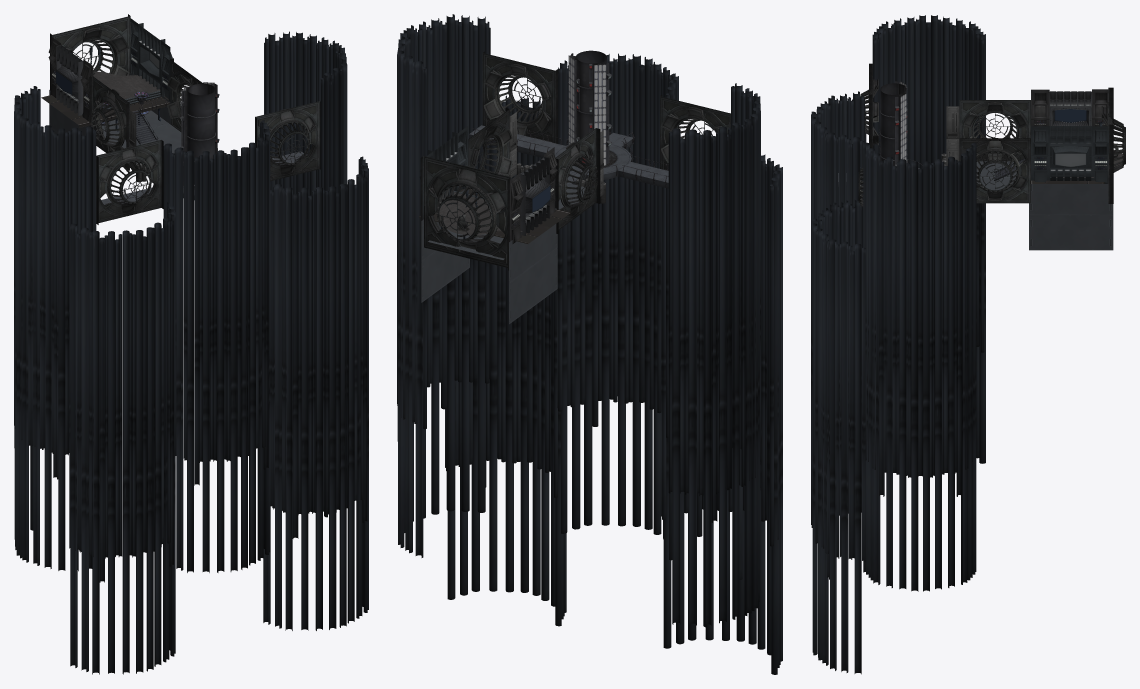
File: env_empire_throneroom_02_pre.glb
3 views of the same model, side by side, from view 1: azimuth 30°, elevation 25°; view 2: azimuth 150°, elevation 25°; view 3: azimuth 270°, elevation 25° (orthographic). The views are drawn at different scales.
Visible parts, largest first — view 1: emp_throne_wall_01_mesh (1), emp_throne_wall_01_mesh (2), emp_throne_wall_01_mesh, emp_throne_wall_01_mesh (3), emp_throne_wall_01_mesh (4), emp_throne_window_01_mesh (2), emp_throne_window_01_mesh (1), emp_throne_elevator_02_mesh, emp_throne_window_01_mesh, emp_throne_window_01_mesh (4), emp_throne_screen_01b_mesh, emp_throne_screen_mesh (1) (+7 smaller); view 2: emp_throne_wall_01_mesh (3), emp_throne_wall_01_mesh, emp_throne_wall_01_mesh (4), emp_throne_wall_01_mesh (2), emp_throne_wall_01_mesh (1), emp_throne_window_01_mesh, emp_throne_window_01_mesh (1), emp_throne_elevator_02_mesh, ground_plane_mesh (3), emp_throne_window_01_mesh (4), emp_throne_floor_01_mesh, emp_throne_window_01_mesh (2) (+7 smaller); view 3: emp_throne_wall_01_mesh (4), emp_throne_wall_01_mesh (2), emp_throne_wall_01_mesh (3), emp_throne_wall_01_mesh, ground_plane_mesh (2), emp_throne_window_01_mesh (3), emp_throne_window_01_mesh (4), emp_throne_screen_mesh (1), emp_throne_elevator_02_mesh, emp_throne_screen_01b_mesh, emp_throne_window_01_mesh, emp_wall_05_mesh (2) (+5 smaller).
Boxes of the visible parts, x1=… form: emp_throne_wall_01_mesh (1): x1=69, y1=202, x2=175, y2=674; emp_throne_wall_01_mesh (2): x1=263, y1=156, x2=368, y2=630; emp_throne_wall_01_mesh: x1=163, y1=120, x2=270, y2=572; emp_throne_wall_01_mesh (3): x1=14, y1=86, x2=96, y2=571; emp_throne_wall_01_mesh (4): x1=264, y1=31, x2=347, y2=517; emp_throne_window_01_mesh (2): x1=96, y1=140, x2=163, y2=224; emp_throne_window_01_mesh (1): x1=255, y1=101, x2=320, y2=181; emp_throne_elevator_02_mesh: x1=180, y1=82, x2=219, y2=185; emp_throne_window_01_mesh: x1=50, y1=14, x2=130, y2=90; emp_throne_window_01_mesh (4): x1=89, y1=76, x2=129, y2=170; emp_throne_screen_01b_mesh: x1=56, y1=45, x2=83, y2=115; emp_throne_screen_mesh (1): x1=138, y1=23, x2=165, y2=92; emp_throne_wall_01_mesh (3): x1=668, y1=83, x2=760, y2=627; emp_throne_wall_01_mesh: x1=557, y1=53, x2=678, y2=560; emp_throne_wall_01_mesh (4): x1=397, y1=14, x2=490, y2=557; emp_throne_wall_01_mesh (2): x1=445, y1=95, x2=566, y2=626; emp_throne_wall_01_mesh (1): x1=661, y1=154, x2=782, y2=674; emp_throne_window_01_mesh: x1=420, y1=156, x2=510, y2=270; emp_throne_window_01_mesh (1): x1=482, y1=51, x2=557, y2=143; emp_throne_elevator_02_mesh: x1=567, y1=50, x2=611, y2=165; ground_plane_mesh (3): x1=509, y1=208, x2=557, y2=324; emp_throne_window_01_mesh (4): x1=554, y1=128, x2=600, y2=234; emp_throne_floor_01_mesh: x1=469, y1=120, x2=668, y2=188; emp_throne_window_01_mesh (2): x1=660, y1=95, x2=730, y2=170; emp_throne_wall_01_mesh (4): x1=863, y1=142, x2=976, y2=591; emp_throne_wall_01_mesh (2): x1=812, y1=200, x2=865, y2=674; emp_throne_wall_01_mesh (3): x1=872, y1=15, x2=985, y2=463; emp_throne_wall_01_mesh: x1=811, y1=91, x2=864, y2=527; ground_plane_mesh (2): x1=1029, y1=184, x2=1113, y2=250; emp_throne_window_01_mesh (3): x1=959, y1=138, x2=1030, y2=203; emp_throne_window_01_mesh (4): x1=959, y1=100, x2=1030, y2=161; emp_throne_screen_mesh (1): x1=1049, y1=126, x2=1091, y2=180; emp_throne_elevator_02_mesh: x1=879, y1=81, x2=907, y2=166; emp_throne_screen_01b_mesh: x1=1049, y1=91, x2=1091, y2=125; emp_throne_window_01_mesh: x1=1101, y1=87, x2=1125, y2=203; emp_wall_05_mesh (2): x1=1031, y1=126, x2=1049, y2=181.
Bounding box in the file's own units: 62.73 × 101 × 55.86.
22 materials, 22 textured.
